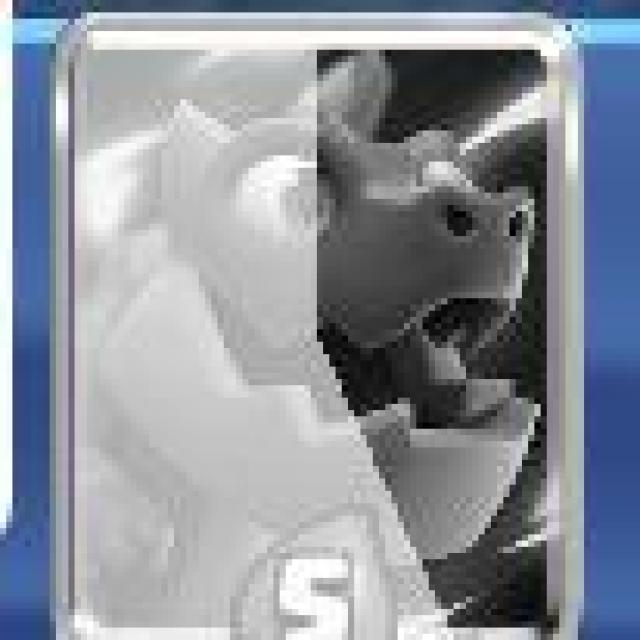Electro_Dragon: (48, 8, 584, 640)
